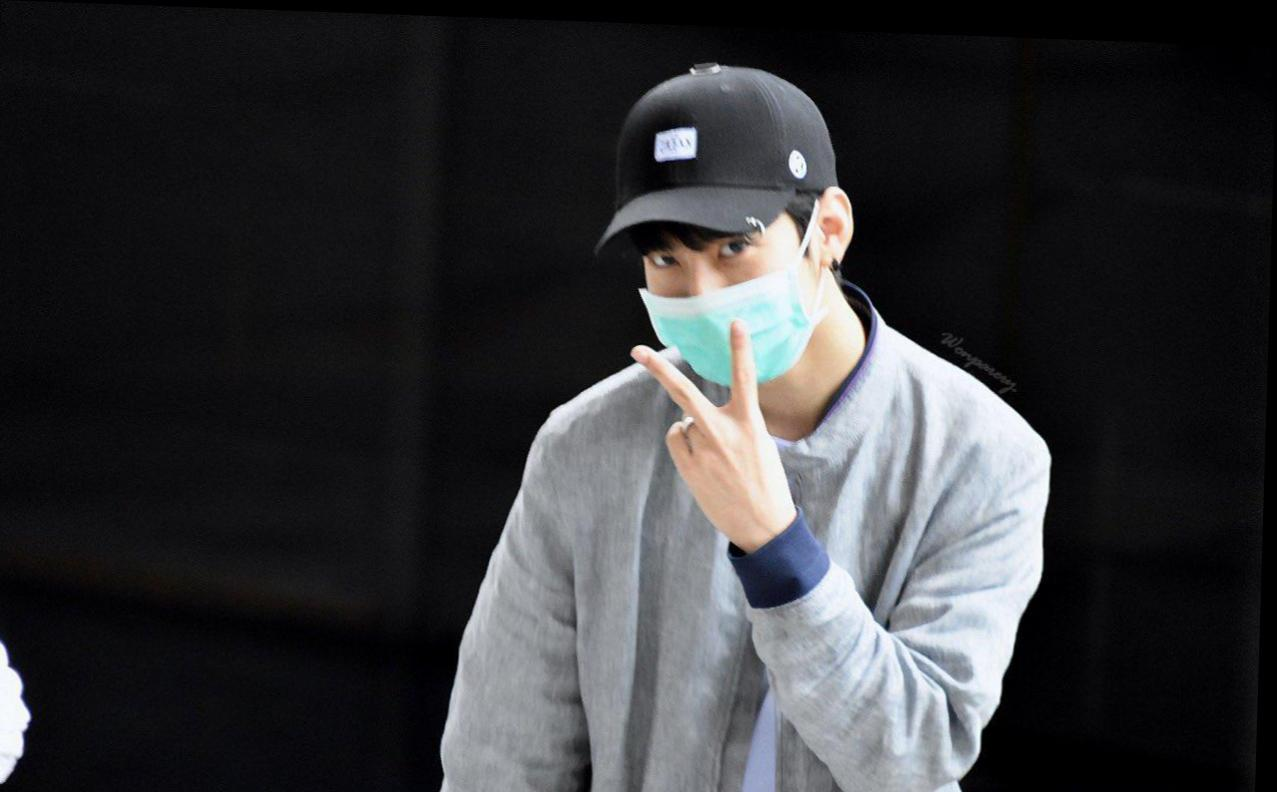WRONG: (640, 199, 827, 385)
